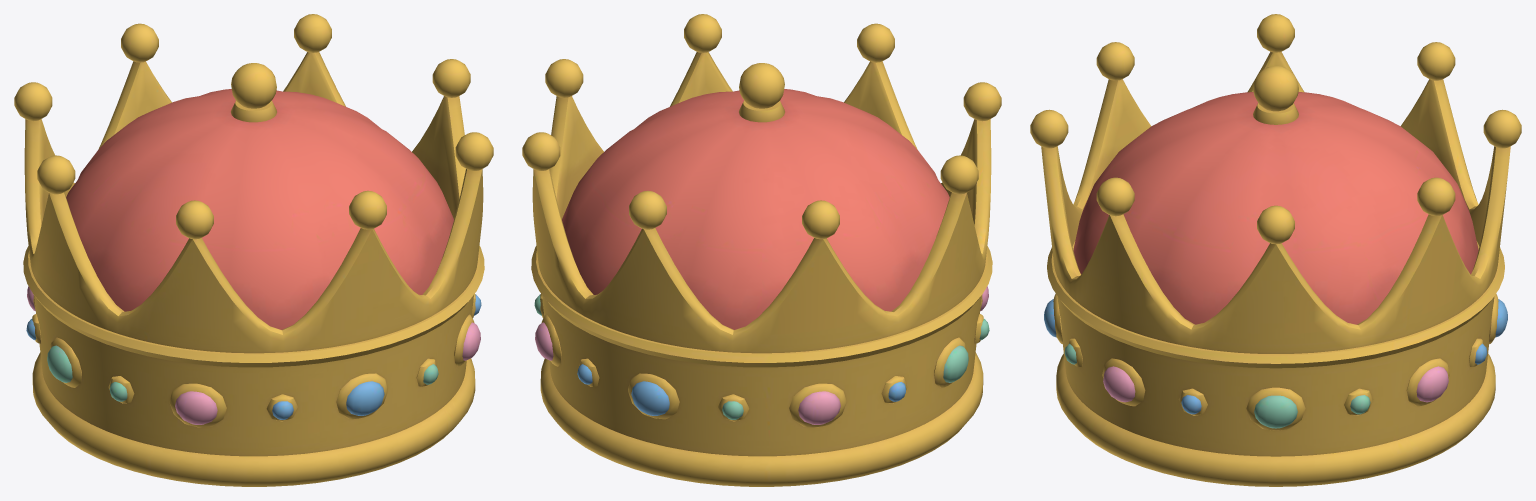
The model's file is medal-M7.glb.
3 renders of one model, left to right at view 1: azimuth 30°, elevation 25°; view 2: azimuth 150°, elevation 25°; view 3: azimuth 270°, elevation 25°, orthographic.
Visible parts, largest first — view 1: crown_body; view 2: crown_body; view 3: crown_body.
Part boxes in pixels (left/top/right/bottom): crown_body: left=14, top=14, right=493, bottom=486; crown_body: left=522, top=14, right=1001, bottom=486; crown_body: left=1030, top=14, right=1521, bottom=486.
Size of the model in its own units: 0.2233 by 0.167 by 0.2233.
Materials: 1 (1 with a texture image).
